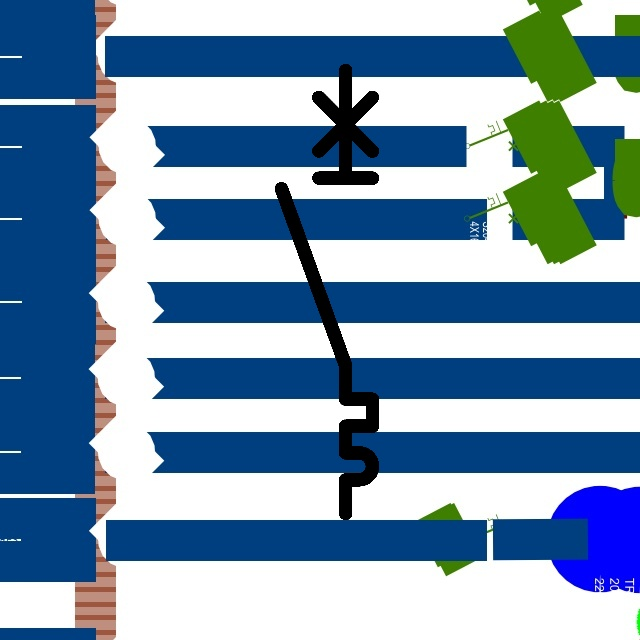interruptor_termomagnetico: (270, 59, 384, 525)
